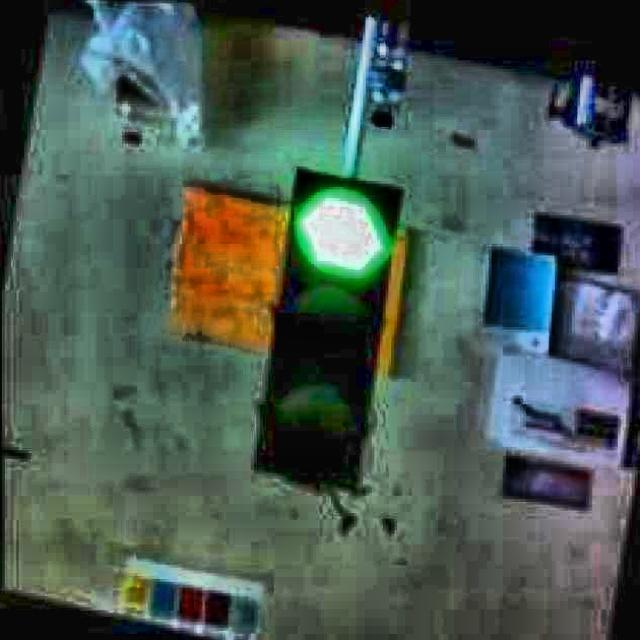green: (260, 165, 408, 494)
